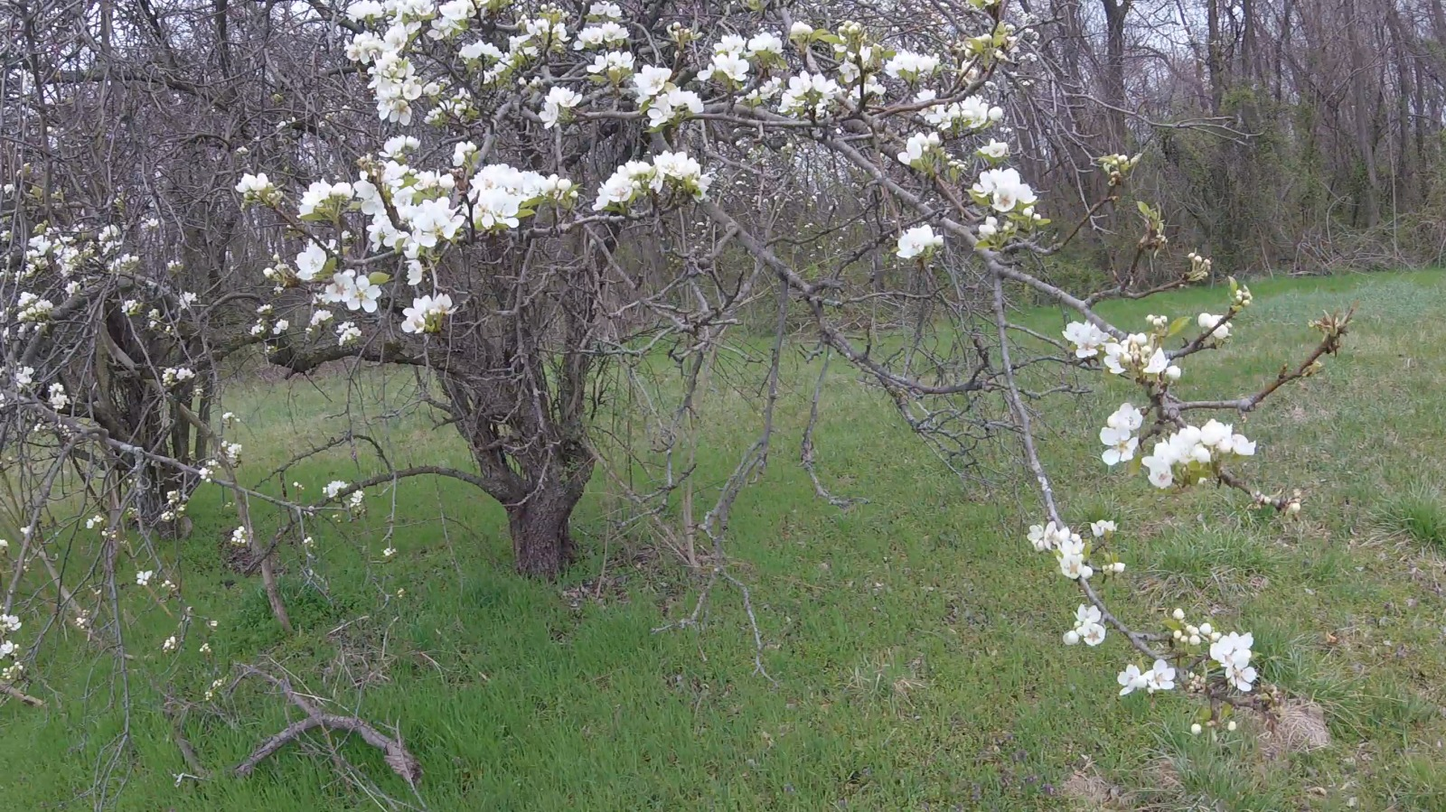flower: (296, 159, 465, 334), (343, 0, 434, 126), (1142, 419, 1256, 490), (593, 151, 719, 211), (470, 163, 572, 229), (1028, 522, 1094, 597), (693, 28, 784, 82), (1063, 321, 1147, 374), (746, 71, 848, 113), (459, 19, 550, 66), (1200, 623, 1258, 692), (918, 95, 1004, 131), (315, 269, 382, 313), (973, 168, 1038, 212), (1100, 403, 1144, 466), (648, 87, 704, 127), (619, 65, 672, 107), (427, 0, 477, 43), (1118, 659, 1176, 696), (540, 87, 583, 131), (1064, 604, 1106, 647), (885, 48, 941, 79), (897, 128, 943, 165), (573, 22, 630, 51), (897, 225, 944, 259), (1137, 348, 1181, 382), (587, 45, 636, 74), (295, 238, 326, 282), (379, 135, 421, 159), (235, 173, 274, 192), (587, 1, 623, 21), (836, 58, 861, 83), (336, 322, 362, 346), (978, 138, 1009, 158), (452, 142, 477, 166), (484, 62, 509, 84), (1185, 623, 1209, 645), (865, 74, 887, 95), (1092, 520, 1118, 537), (790, 22, 815, 39), (552, 22, 572, 42), (1199, 313, 1224, 329), (979, 216, 998, 237), (1103, 563, 1125, 581), (914, 88, 937, 104), (424, 81, 440, 103), (311, 310, 333, 326), (455, 99, 474, 117), (424, 107, 443, 125), (1214, 322, 1233, 340), (451, 88, 471, 101), (273, 320, 288, 335), (1174, 630, 1188, 642), (249, 325, 264, 335), (850, 86, 861, 98), (1173, 609, 1185, 619), (1192, 723, 1201, 734)
